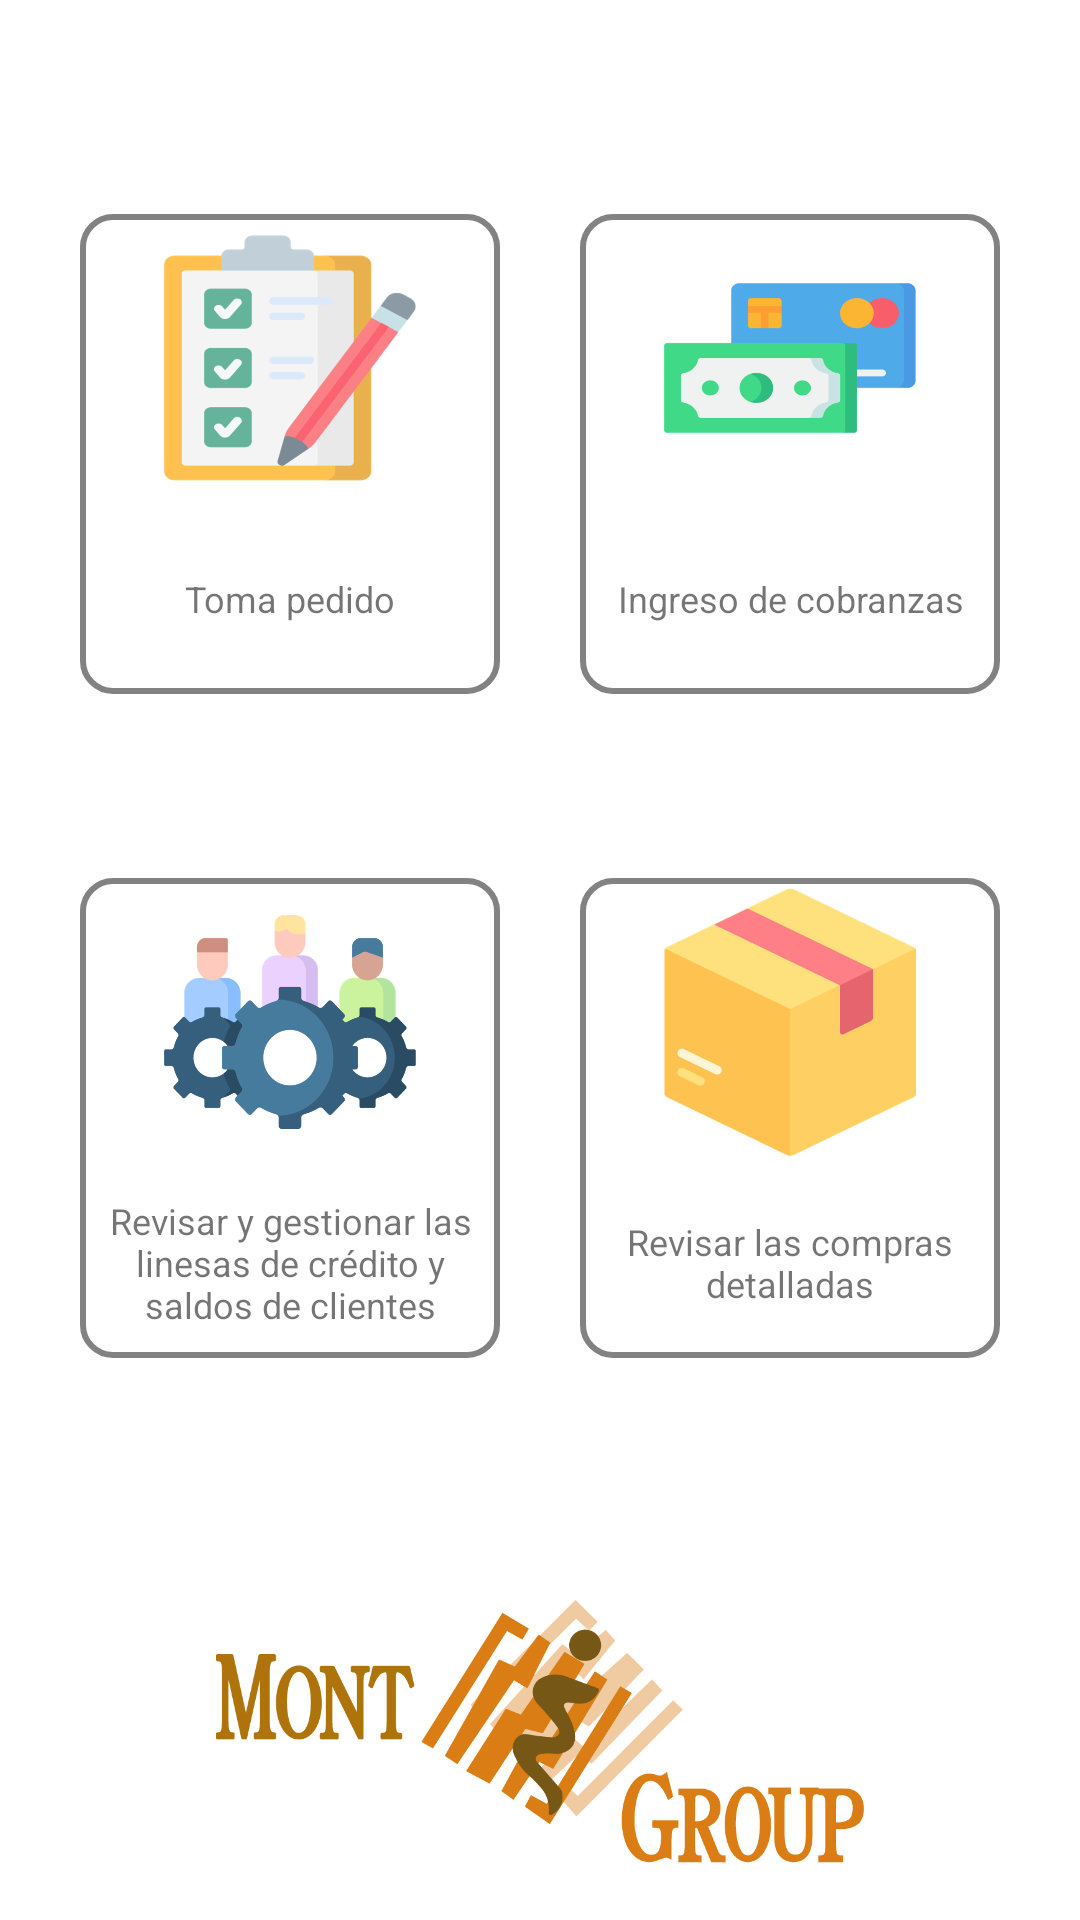

Screen size 1080x1920. Icon name, then its center in pixels as point (x, y):
tomadepedido: point (290, 347)
